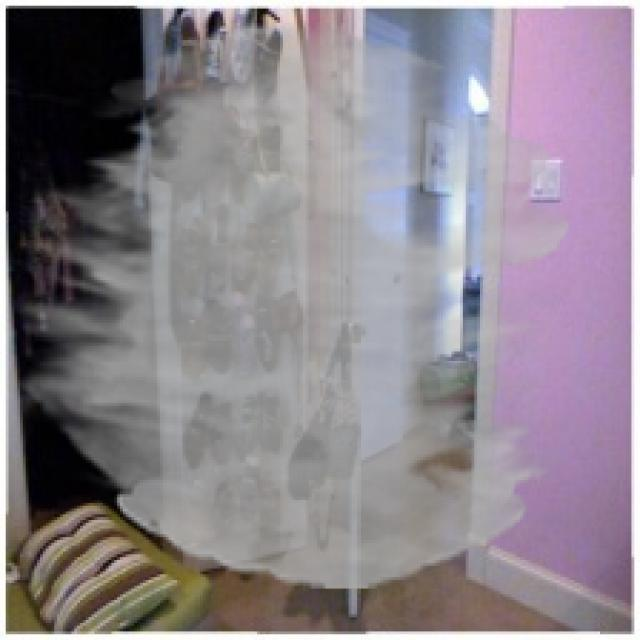Smoke: (14, 22, 569, 588)
